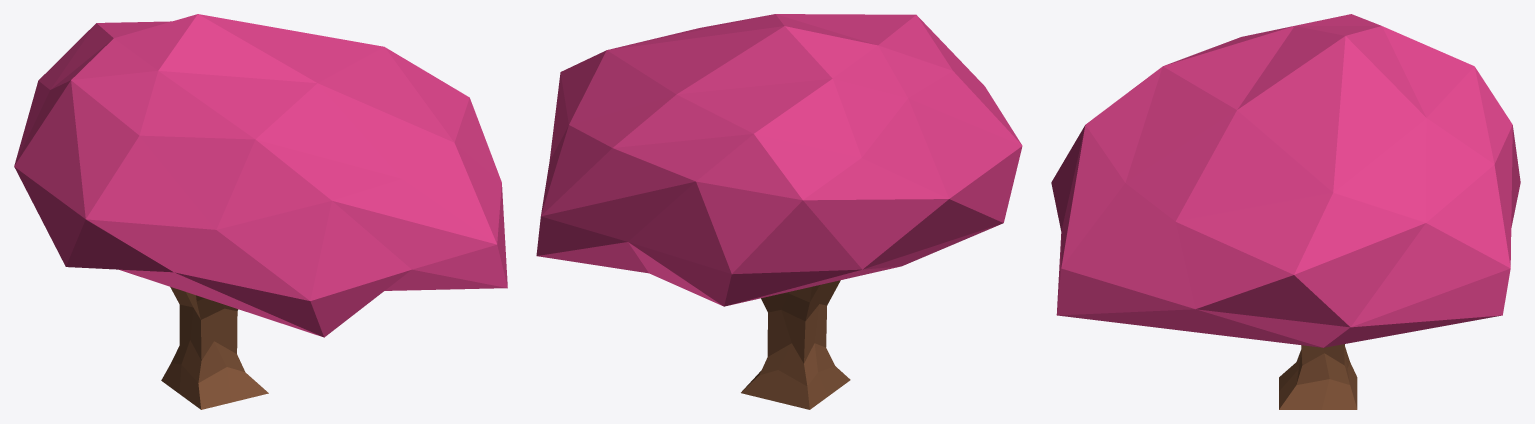
File: Tree_29_Pink.fbx
The picture shows the model from 3 angles, left to right: view 1: azimuth 30°, elevation 25°; view 2: azimuth 150°, elevation 25°; view 3: azimuth 270°, elevation 25°; orthographic projection. The views are drawn at different scales.
Parts seen in each view (by area): view 1: Tree_29_Pink_Part_1, Tree_29_Pink_Part_2; view 2: Tree_29_Pink_Part_1, Tree_29_Pink_Part_2; view 3: Tree_29_Pink_Part_1, Tree_29_Pink_Part_2.
Part boxes in pixels (x1,y1,x2,y2): Tree_29_Pink_Part_1: (14, 14, 507, 337); Tree_29_Pink_Part_2: (161, 287, 268, 409); Tree_29_Pink_Part_1: (536, 14, 1022, 306); Tree_29_Pink_Part_2: (741, 280, 850, 409); Tree_29_Pink_Part_1: (1051, 14, 1520, 347); Tree_29_Pink_Part_2: (1279, 344, 1357, 409).
Bounding box in the file's own units: 821 × 681 × 813.
